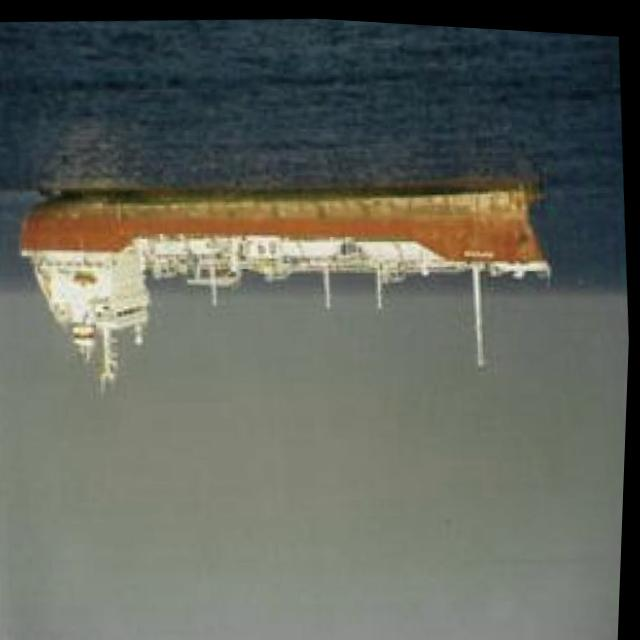ship2: (19, 173, 552, 383)
